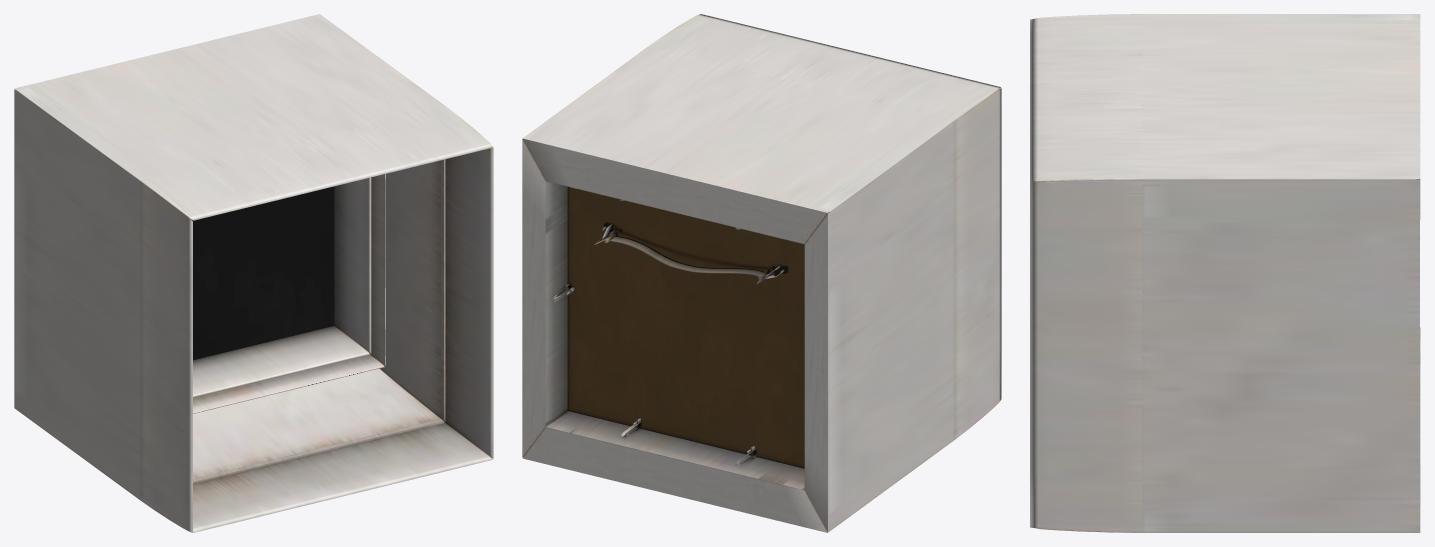
Rendered from ph-hanging-picture-frame-02.glb.
3 views of the same model, side by side, from view 1: azimuth 30°, elevation 25°; view 2: azimuth 150°, elevation 25°; view 3: azimuth 270°, elevation 25° (orthographic). The views are drawn at different scales.
Parts seen in each view (by area): view 1: hanging_picture_frame_02; view 2: hanging_picture_frame_02; view 3: hanging_picture_frame_02.
Boxes of the visible parts, left/top/right/bottom form: hanging_picture_frame_02: left=14, top=14, right=493, bottom=532; hanging_picture_frame_02: left=522, top=14, right=1001, bottom=532; hanging_picture_frame_02: left=1030, top=14, right=1420, bottom=532.
Size of the model in its own units: 1 by 1 by 1.
3 materials, 3 textured.
